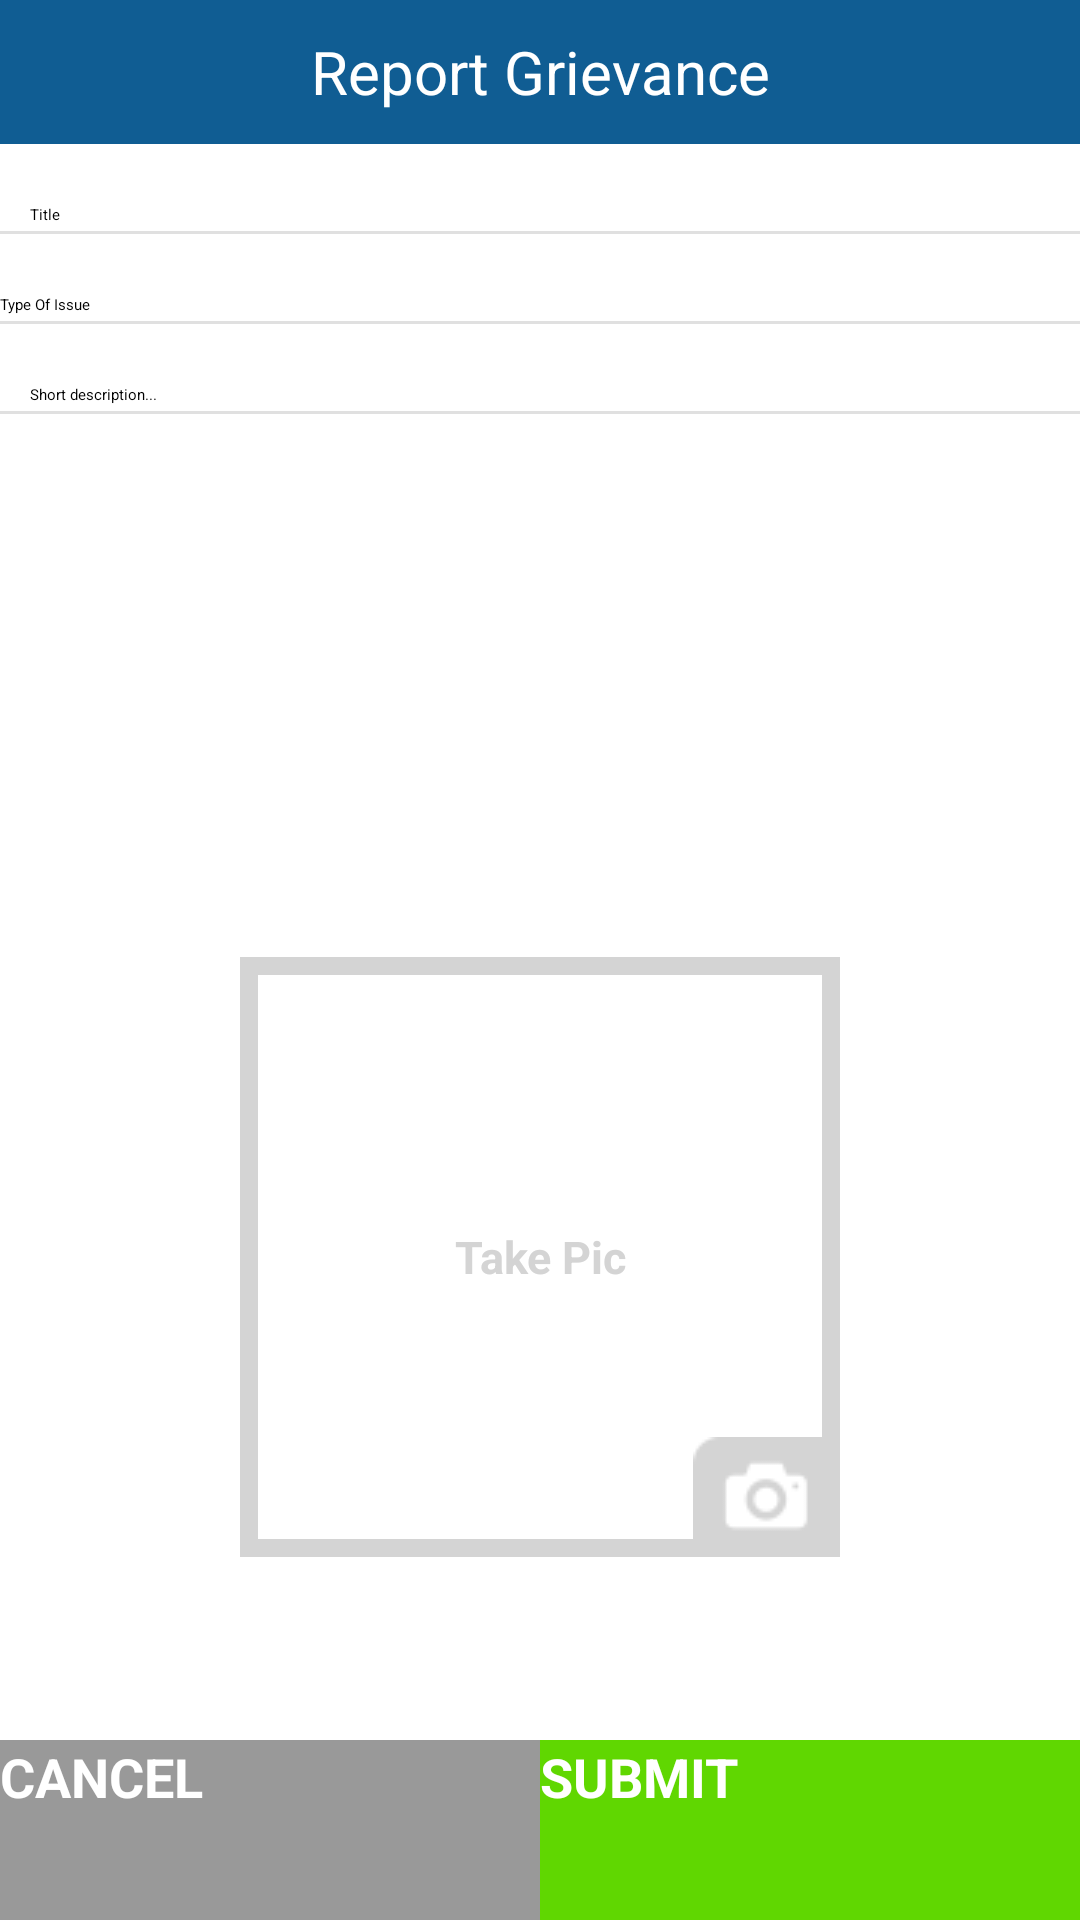

Icon click points for this 1080px x 1920px phone screenshot, format [x,y]:
cam: [765,1495]
